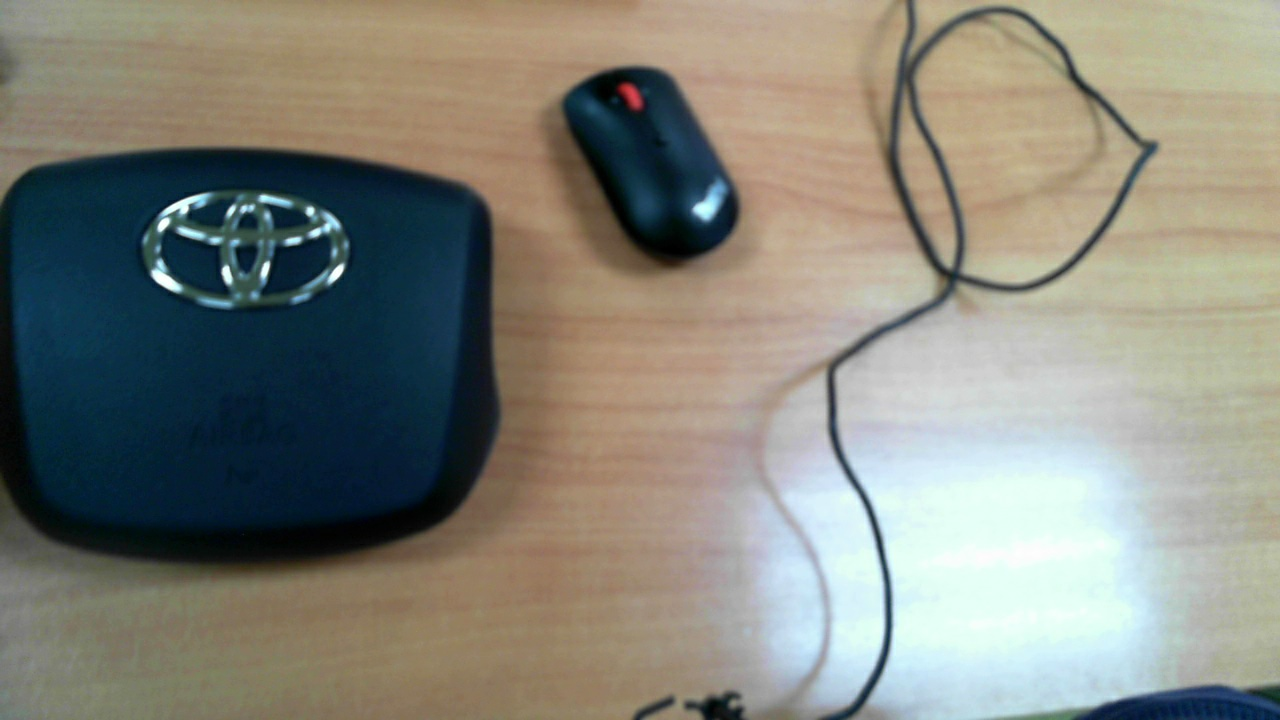Airbag: (0, 141, 496, 598)
